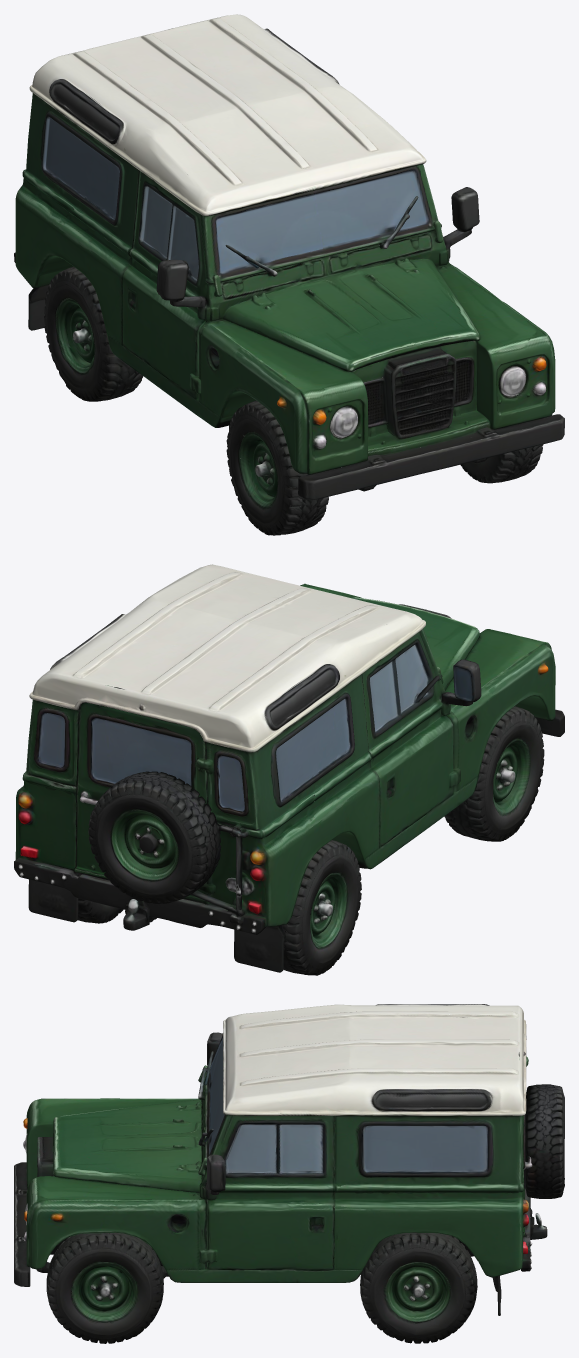
The model's file is land_rover_series3.glb.
3 views of the same model, one above another, from view 1: azimuth 30°, elevation 25°; view 2: azimuth 150°, elevation 25°; view 3: azimuth 270°, elevation 25° (orthographic). The views are drawn at different scales.
Visible parts, largest first — view 1: tripo_part_1, tripo_part_3, tripo_part_5, tripo_part_7, tripo_part_26, tripo_part_8, tripo_part_24, tripo_part_25, tripo_part_17, tripo_part_33, tripo_part_10, tripo_part_0 (+5 smaller); view 2: tripo_part_1, tripo_part_3, tripo_part_4, tripo_part_5, tripo_part_24, tripo_part_25, tripo_part_13, tripo_part_27, tripo_part_7, tripo_part_16, tripo_part_10, tripo_part_15 (+6 smaller); view 3: tripo_part_1, tripo_part_26, tripo_part_5, tripo_part_27, tripo_part_7, tripo_part_2, tripo_part_0, tripo_part_4, tripo_part_12, tripo_part_3, tripo_part_34, tripo_part_39 (+5 smaller).
Part boxes in pixels (x1=…): tripo_part_1: x1=22, y1=14, x2=426, y2=257; tripo_part_3: x1=14, y1=179, x2=368, y2=474; tripo_part_5: x1=131, y1=164, x2=450, y2=327; tripo_part_7: x1=223, y1=258, x2=488, y2=455; tripo_part_26: x1=436, y1=262, x2=555, y2=429; tripo_part_8: x1=364, y1=347, x2=474, y2=439; tripo_part_24: x1=44, y1=266, x2=143, y2=401; tripo_part_25: x1=226, y1=400, x2=328, y2=535; tripo_part_17: x1=298, y1=444, x2=447, y2=499; tripo_part_33: x1=431, y1=414, x2=564, y2=469; tripo_part_10: x1=240, y1=431, x2=278, y2=512; tripo_part_0: x1=460, y1=444, x2=543, y2=483; tripo_part_1: x1=22, y1=564, x2=425, y2=910; tripo_part_3: x1=202, y1=629, x2=555, y2=927; tripo_part_4: x1=88, y1=771, x2=221, y2=903; tripo_part_5: x1=362, y1=629, x2=454, y2=766; tripo_part_24: x1=281, y1=840, x2=361, y2=975; tripo_part_25: x1=444, y1=706, x2=544, y2=841; tripo_part_13: x1=14, y1=857, x2=265, y2=934; tripo_part_27: x1=15, y1=781, x2=76, y2=870; tripo_part_7: x1=351, y1=597, x2=480, y2=690; tripo_part_16: x1=121, y1=814, x2=175, y2=871; tripo_part_10: x1=493, y1=736, x2=532, y2=816; tripo_part_15: x1=234, y1=925, x2=285, y2=972; tripo_part_1: x1=223, y1=1004, x2=532, y2=1236; tripo_part_26: x1=23, y1=1176, x2=361, y2=1282; tripo_part_5: x1=198, y1=1035, x2=335, y2=1219; tripo_part_27: x1=334, y1=1191, x2=528, y2=1277; tripo_part_7: x1=53, y1=1099, x2=201, y2=1193; tripo_part_2: x1=360, y1=1232, x2=477, y2=1343; tripo_part_0: x1=46, y1=1232, x2=163, y2=1343; tripo_part_4: x1=524, y1=1084, x2=564, y2=1198; tripo_part_12: x1=70, y1=1261, x2=139, y2=1324; tripo_part_3: x1=23, y1=1098, x2=198, y2=1188; tripo_part_34: x1=393, y1=1267, x2=443, y2=1311; tripo_part_39: x1=386, y1=1262, x2=451, y2=1322.
Bounding box in the file's own units: 0.5694 × 0.5055 × 0.9999.
1 material, 1 textured.
